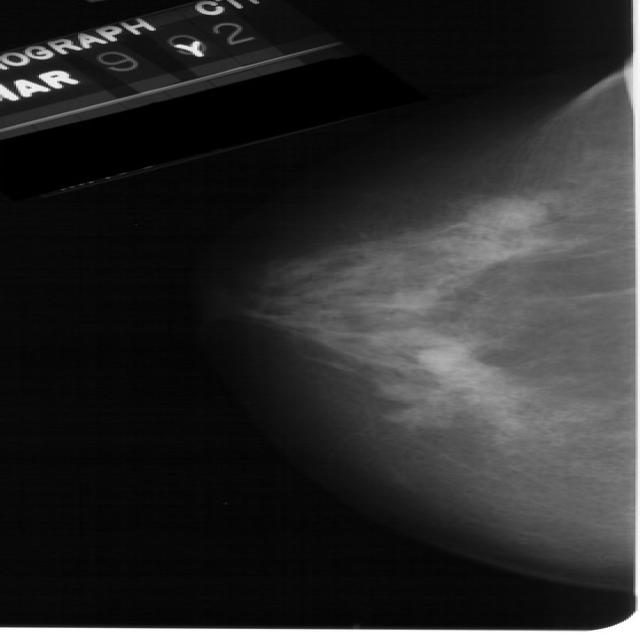tumour: (464, 196, 548, 229)
